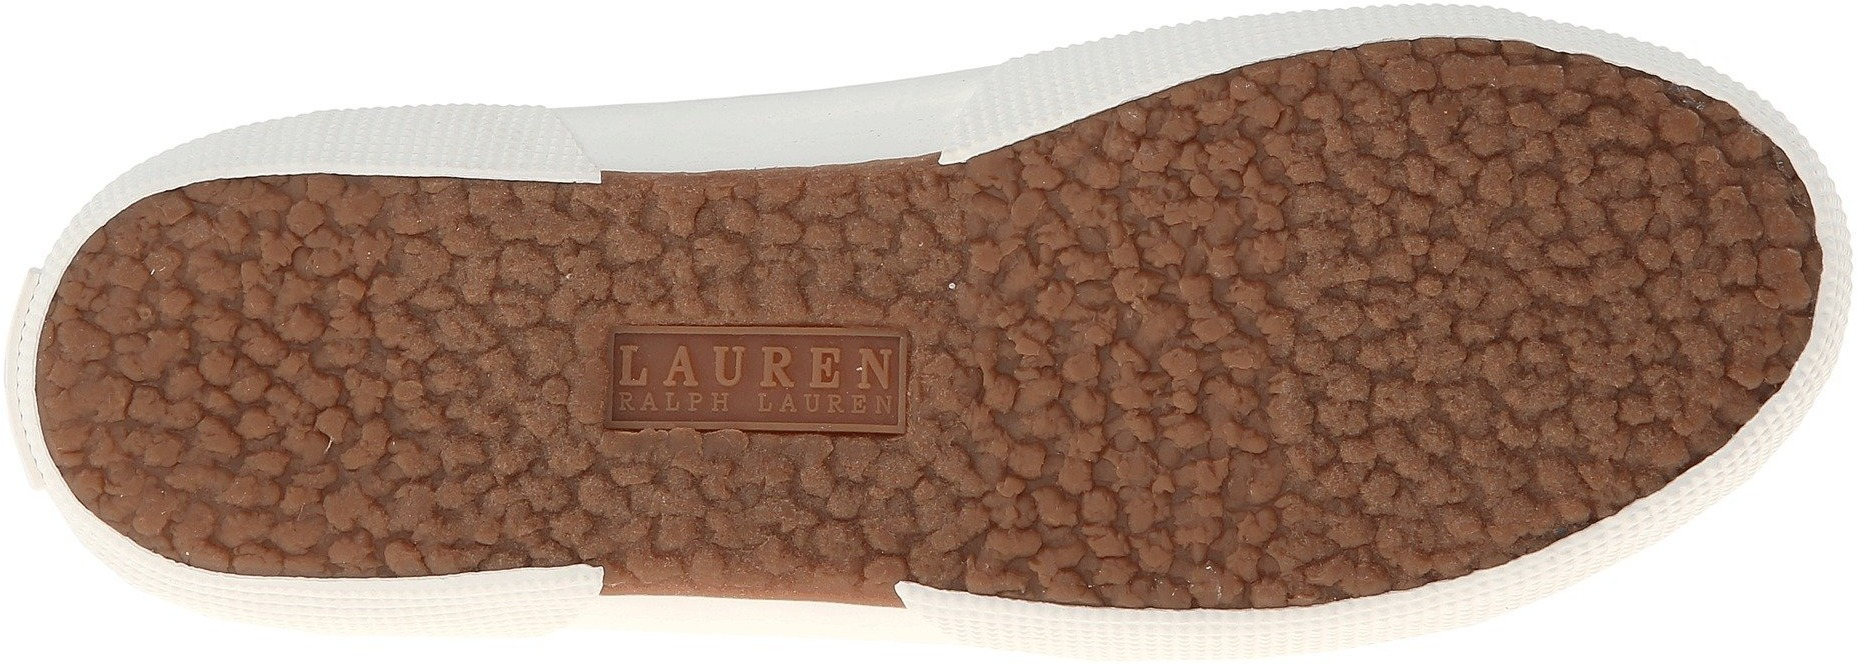text: (770, 325, 919, 451), (613, 331, 720, 433)
